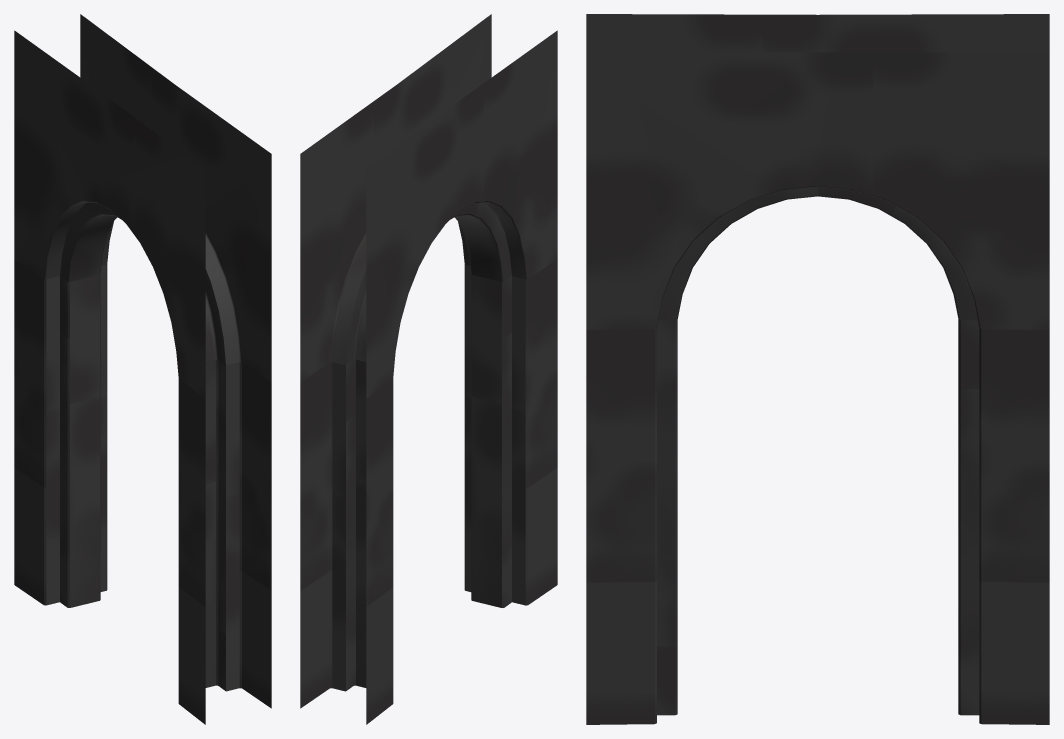
Rendered from SM_BiggggArchWall.fbx.
3 renders of one model, left to right at view 1: azimuth 30°, elevation 25°; view 2: azimuth 150°, elevation 25°; view 3: azimuth 270°, elevation 25°, orthographic. The views are drawn at different scales.
Visible parts, largest first — view 1: BiGARCH_ARCH; view 2: BiGARCH_ARCH; view 3: BiGARCH_ARCH.
Boxes of the visible parts, box(x1,y1,x2,y2) form: BiGARCH_ARCH: box(14, 14, 271, 724); BiGARCH_ARCH: box(300, 14, 557, 724); BiGARCH_ARCH: box(586, 14, 1049, 724).
Bounding box in the file's own units: 100 × 800 × 500.
